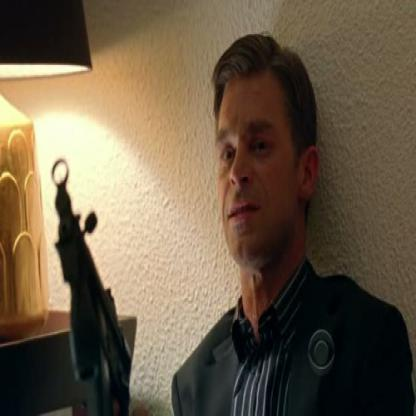Gun: (47, 152, 137, 414)
